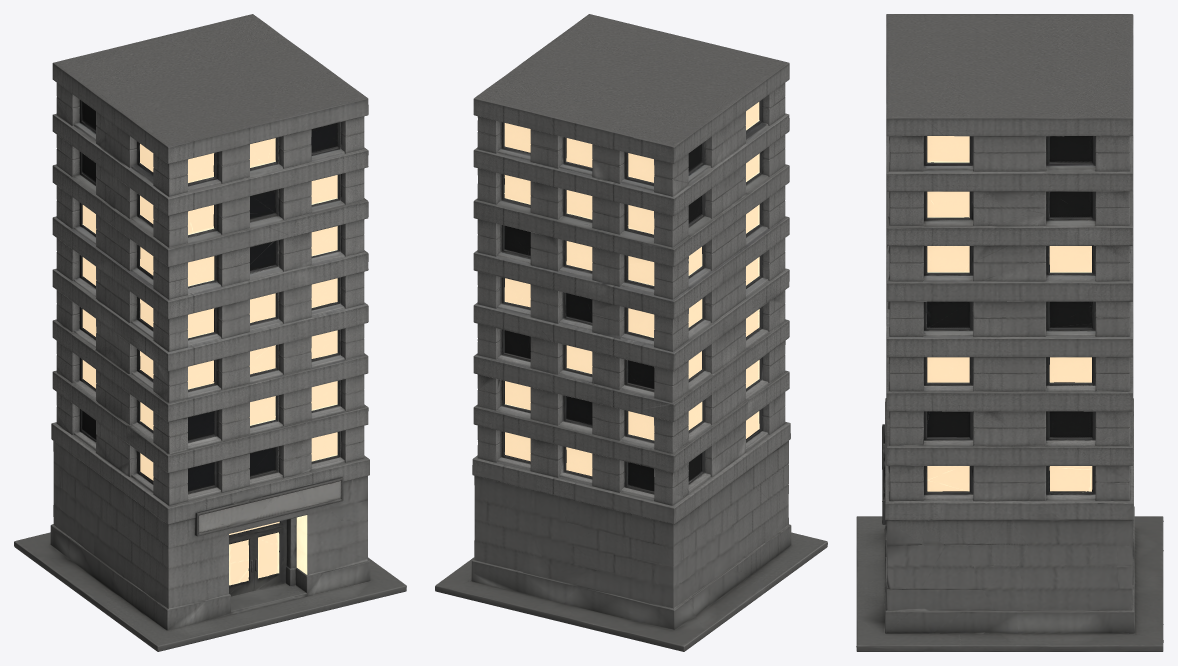
The model's file is tower-brutalist-concrete.glb.
3 views of the same model, side by side, from view 1: azimuth 30°, elevation 25°; view 2: azimuth 150°, elevation 25°; view 3: azimuth 270°, elevation 25° (orthographic). The views are drawn at different scales.
Size of the model in its own units: 17.09 by 32 by 17.06.
3 materials, 3 textured.
